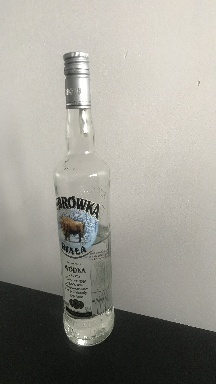butelka: (51, 48, 115, 348)
